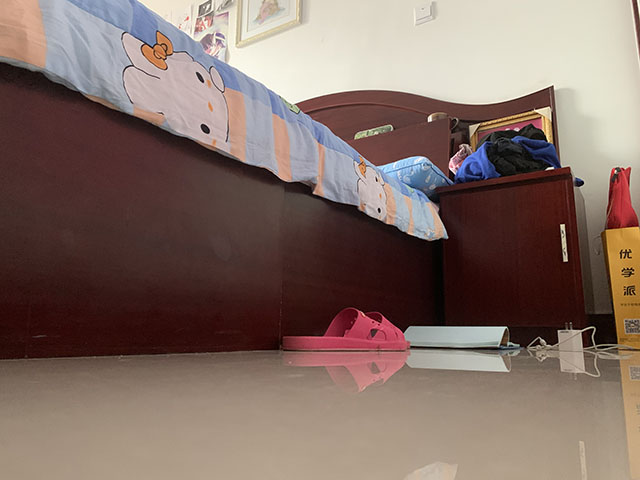bed: (1, 1, 562, 362)
cabinet: (432, 165, 590, 348)
slippers: (280, 306, 411, 353)
wire: (526, 321, 633, 354)
